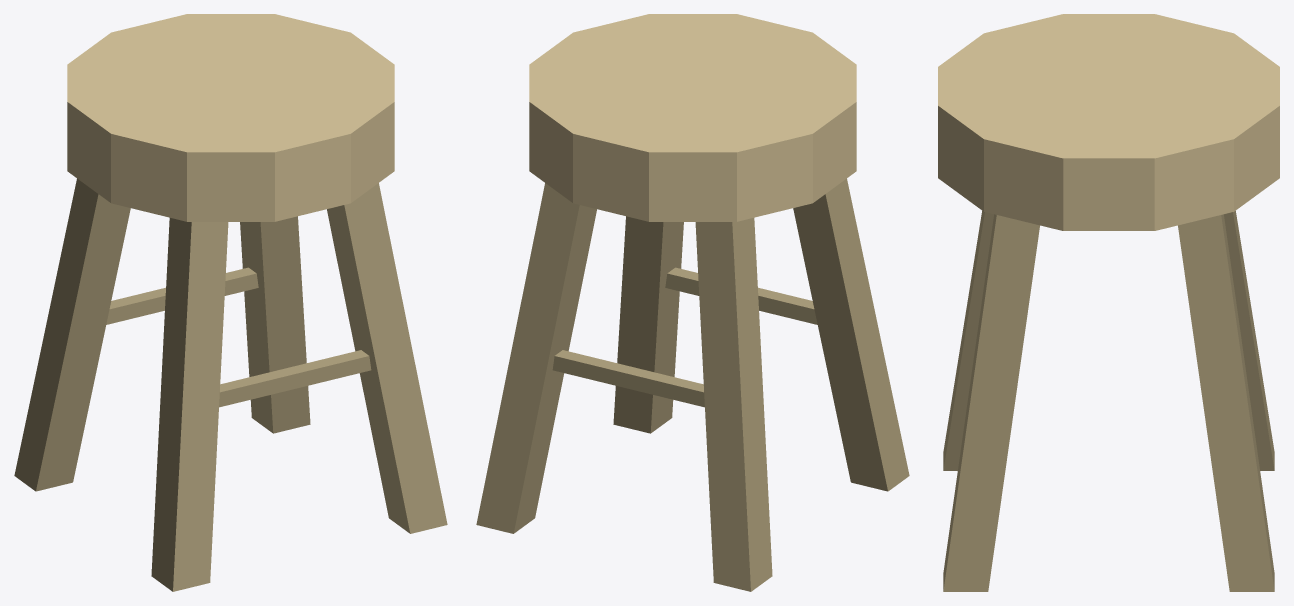
Rendered from stool_d2.glb.
3 renders of one model, left to right at view 1: azimuth 30°, elevation 25°; view 2: azimuth 150°, elevation 25°; view 3: azimuth 270°, elevation 25°, orthographic. The views are drawn at different scales.
Parts seen in each view (by area): view 1: stool_d2_seat_light_wood, stool_d2_leg_back_left_dark_wood, stool_d2_leg_back_right_dark_wood, stool_d2_leg_front_left_dark_wood, stool_d2_leg_front_right_dark_wood, stool_d2_side_brace_back_dark_wood, stool_d2_side_brace_front_dark_wood; view 2: stool_d2_seat_light_wood, stool_d2_leg_front_left_dark_wood, stool_d2_leg_front_right_dark_wood, stool_d2_leg_back_left_dark_wood, stool_d2_leg_back_right_dark_wood, stool_d2_side_brace_front_dark_wood, stool_d2_side_brace_back_dark_wood; view 3: stool_d2_seat_light_wood, stool_d2_leg_back_right_dark_wood, stool_d2_leg_front_right_dark_wood, stool_d2_leg_back_left_dark_wood, stool_d2_leg_front_left_dark_wood.
Part boxes in pixels (<box>): stool_d2_seat_light_wood: <box>67,14,394,221</box>; stool_d2_leg_back_left_dark_wood: <box>151,218,228,591</box>; stool_d2_leg_back_right_dark_wood: <box>327,183,447,533</box>; stool_d2_leg_front_left_dark_wood: <box>14,178,130,491</box>; stool_d2_leg_front_right_dark_wood: <box>240,216,310,433</box>; stool_d2_side_brace_back_dark_wood: <box>219,350,371,407</box>; stool_d2_side_brace_front_dark_wood: <box>106,267,258,324</box>; stool_d2_seat_light_wood: <box>529,14,856,221</box>; stool_d2_leg_front_left_dark_wood: <box>695,218,772,591</box>; stool_d2_leg_front_right_dark_wood: <box>476,183,596,533</box>; stool_d2_leg_back_left_dark_wood: <box>793,178,909,491</box>; stool_d2_leg_back_right_dark_wood: <box>613,216,683,433</box>; stool_d2_side_brace_front_dark_wood: <box>552,350,704,407</box>; stool_d2_side_brace_back_dark_wood: <box>665,267,817,324</box>; stool_d2_seat_light_wood: <box>938,14,1279,230</box>; stool_d2_leg_back_right_dark_wood: <box>943,214,1039,591</box>; stool_d2_leg_front_right_dark_wood: <box>1178,214,1274,591</box>; stool_d2_leg_back_left_dark_wood: <box>943,211,993,470</box>; stool_d2_leg_front_left_dark_wood: <box>1224,211,1274,470</box>.
Bounding box in the file's own units: 0.32 × 0.45 × 0.32.
